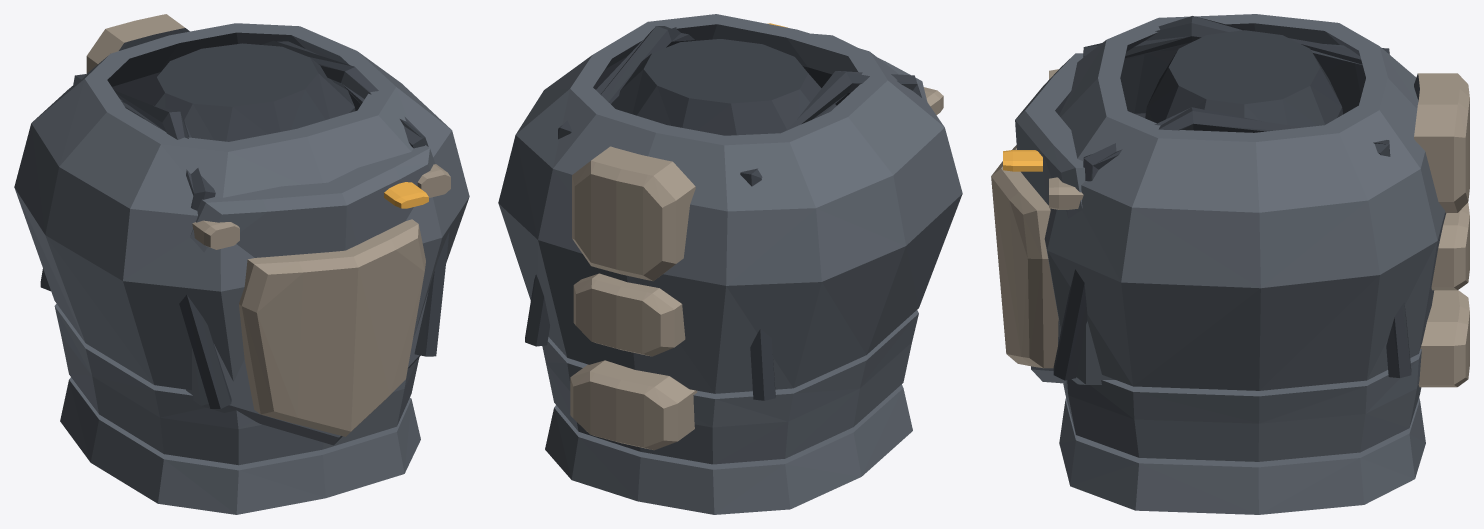
The model's file is torso_heavy.glb.
The picture shows the model from 3 angles, left to right: view 1: azimuth 30°, elevation 25°; view 2: azimuth 150°, elevation 25°; view 3: azimuth 270°, elevation 25°; orthographic projection. The views are drawn at different scales.
Parts seen in each view (by area): view 1: torso_heavy; view 2: torso_heavy; view 3: torso_heavy.
Part boxes in pixels (x1,y1,x2,y2): torso_heavy: (14,14,469,514); torso_heavy: (498,14,962,514); torso_heavy: (991,14,1469,514).
Bounding box in the file's own units: 1.12 × 1.05 × 1.2.
